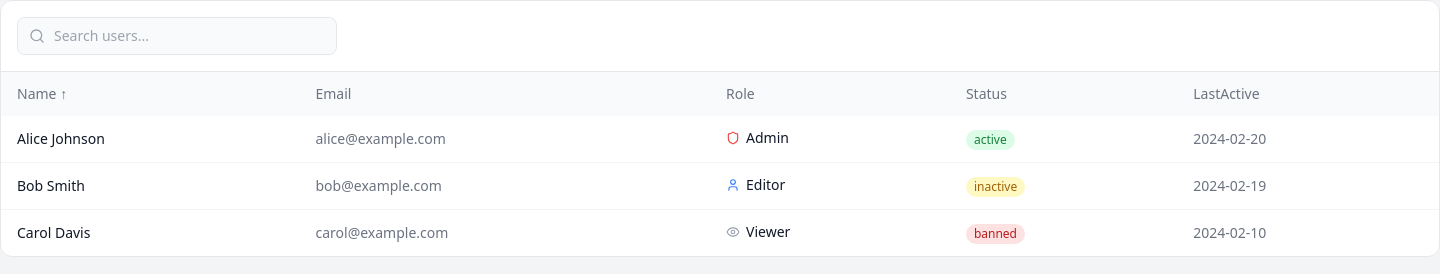
Scenario: UserTable › filters users by search
The width and height of the screenshot is (1440, 274).
Type "Alice" into the field with placeholder "Search users..." at (177, 36), box [17,17,337,55]
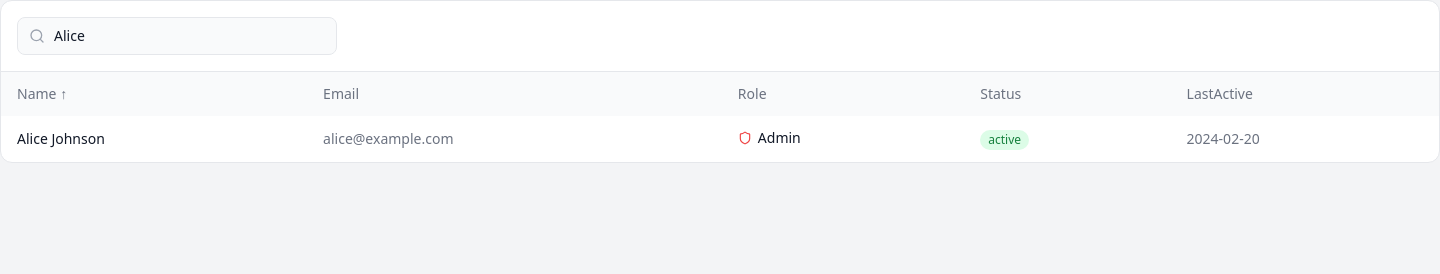
Expected: the text "Alice Johnson" is shown, [1,116,307,162]
Expected: the text "Bob Smith" is gone
Expected: the text "Carol Davis" is gone
